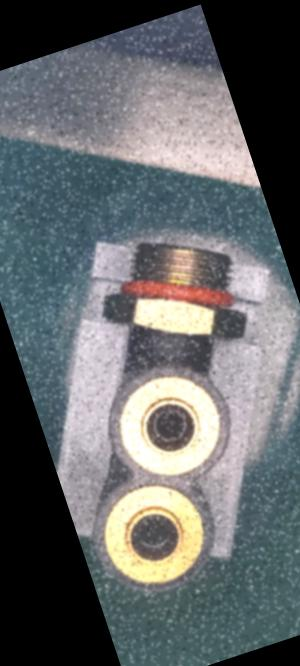joint line: (177, 333, 195, 355)
